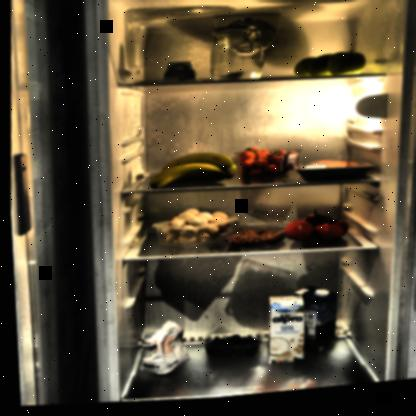apple: (291, 51, 367, 89)
banana: (143, 148, 237, 195)
blueberries: (200, 333, 256, 366)
milk: (288, 288, 338, 364), (260, 298, 305, 373)
mushrooms: (148, 205, 237, 259)
shrimp: (220, 227, 282, 258)
strawberries: (234, 147, 300, 185)
tomato: (278, 210, 351, 253)
